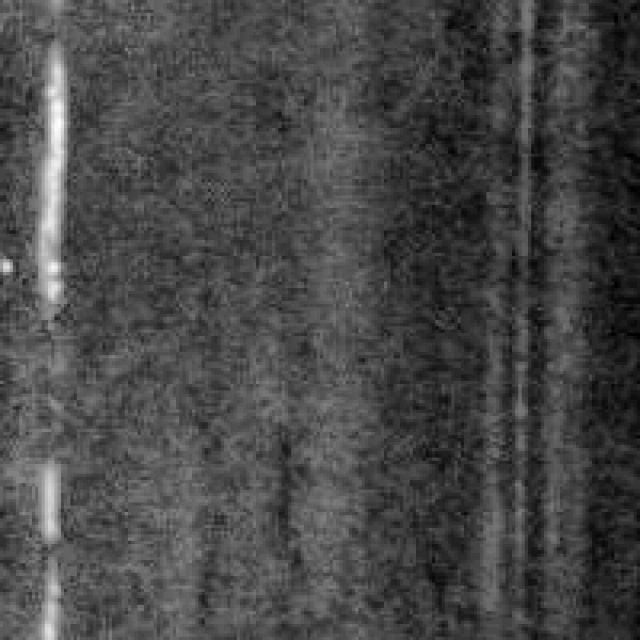Inclusion: (22, 42, 74, 310), (26, 458, 68, 634)
